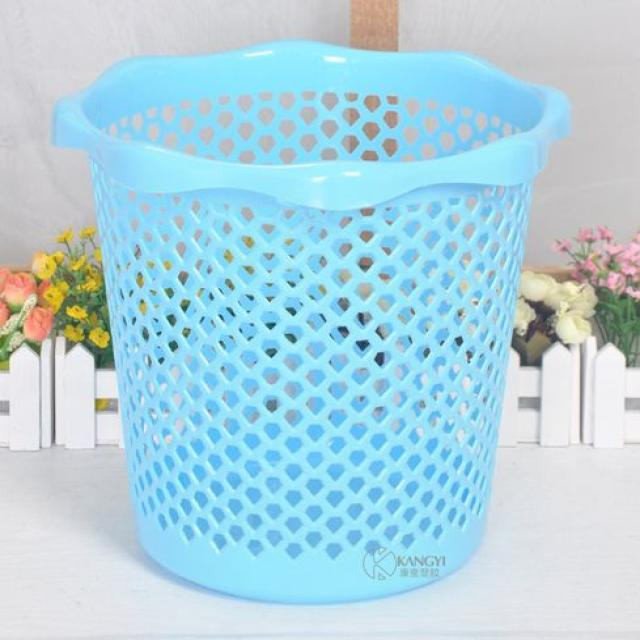dustbin: (48, 31, 577, 606)
